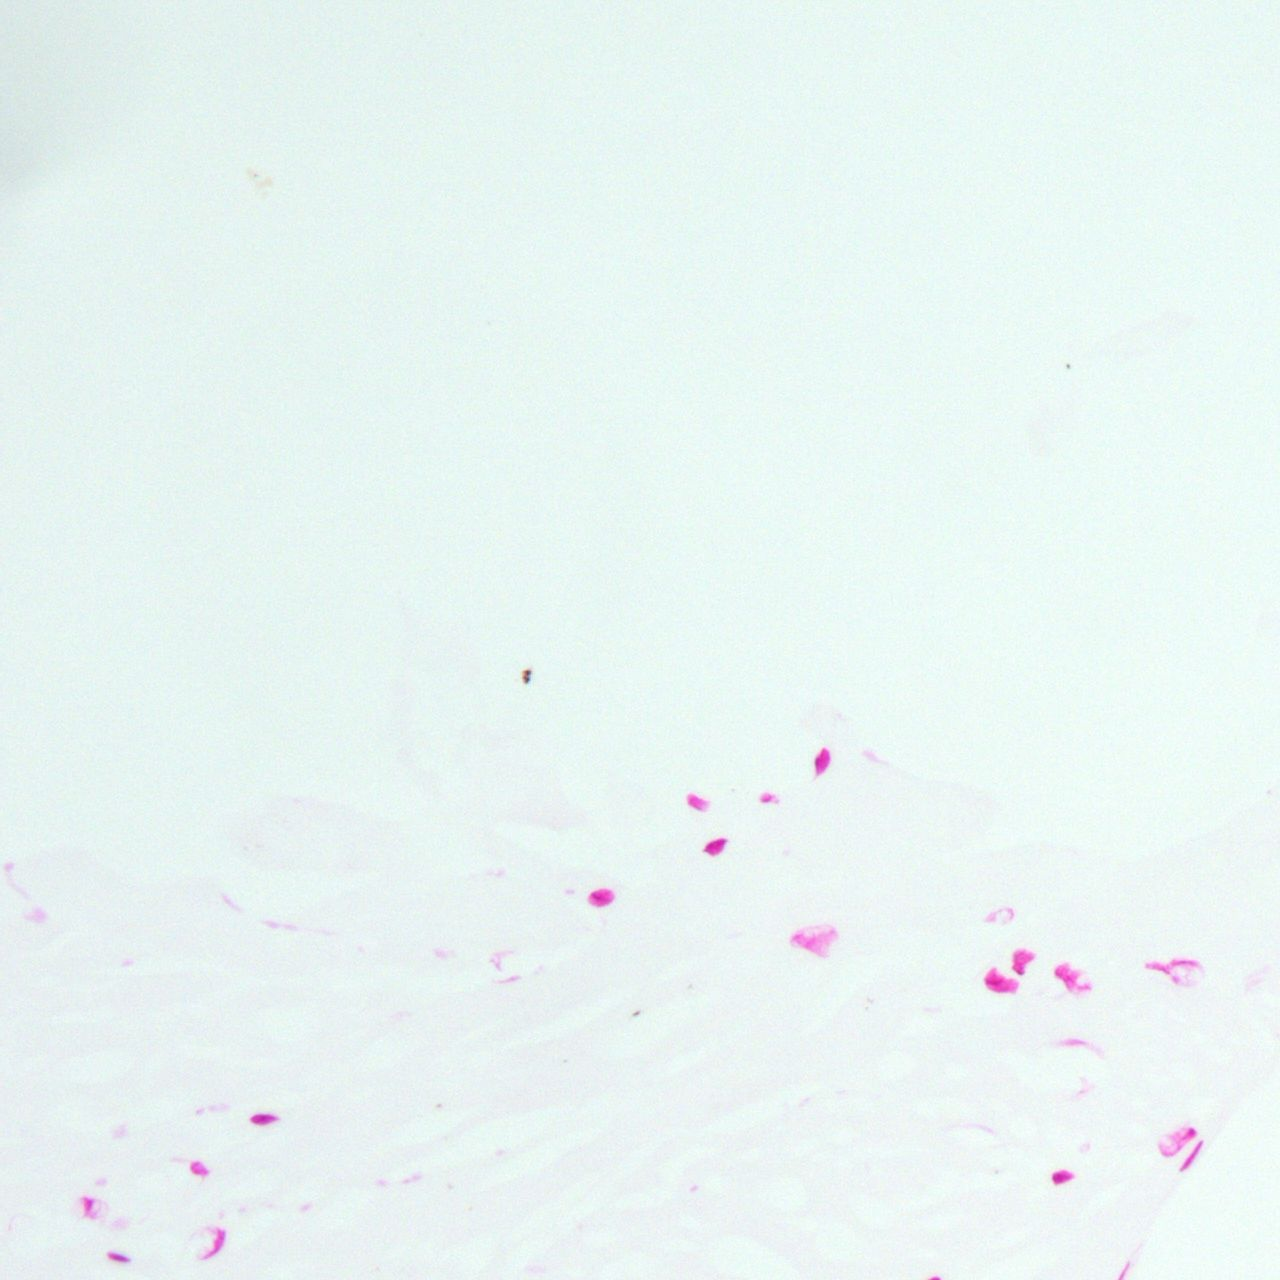dust: (522, 668, 531, 685), (1065, 363, 1070, 368)
nucleus-FG: (981, 965, 1021, 1002), (1177, 1138, 1206, 1173), (701, 833, 730, 860), (682, 790, 712, 813), (587, 886, 617, 908), (1012, 948, 1034, 974), (815, 745, 830, 777), (105, 1250, 132, 1266), (250, 1114, 282, 1125), (1051, 1169, 1073, 1184), (761, 790, 775, 801)
